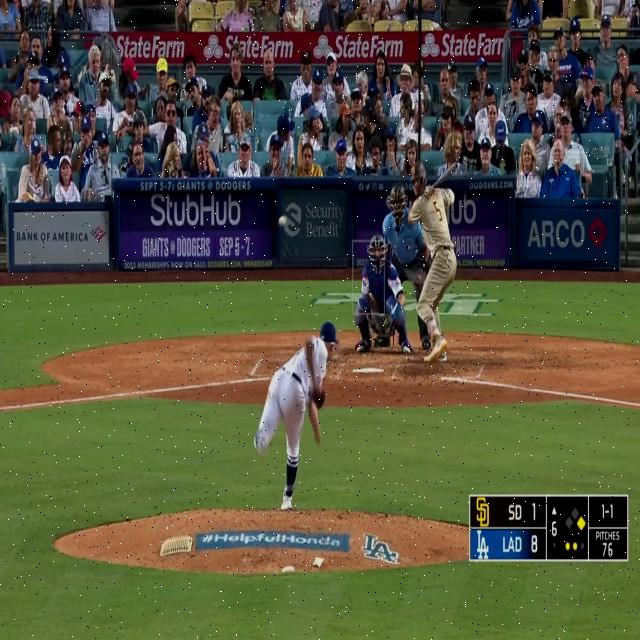baseball: (278, 215, 287, 227)
